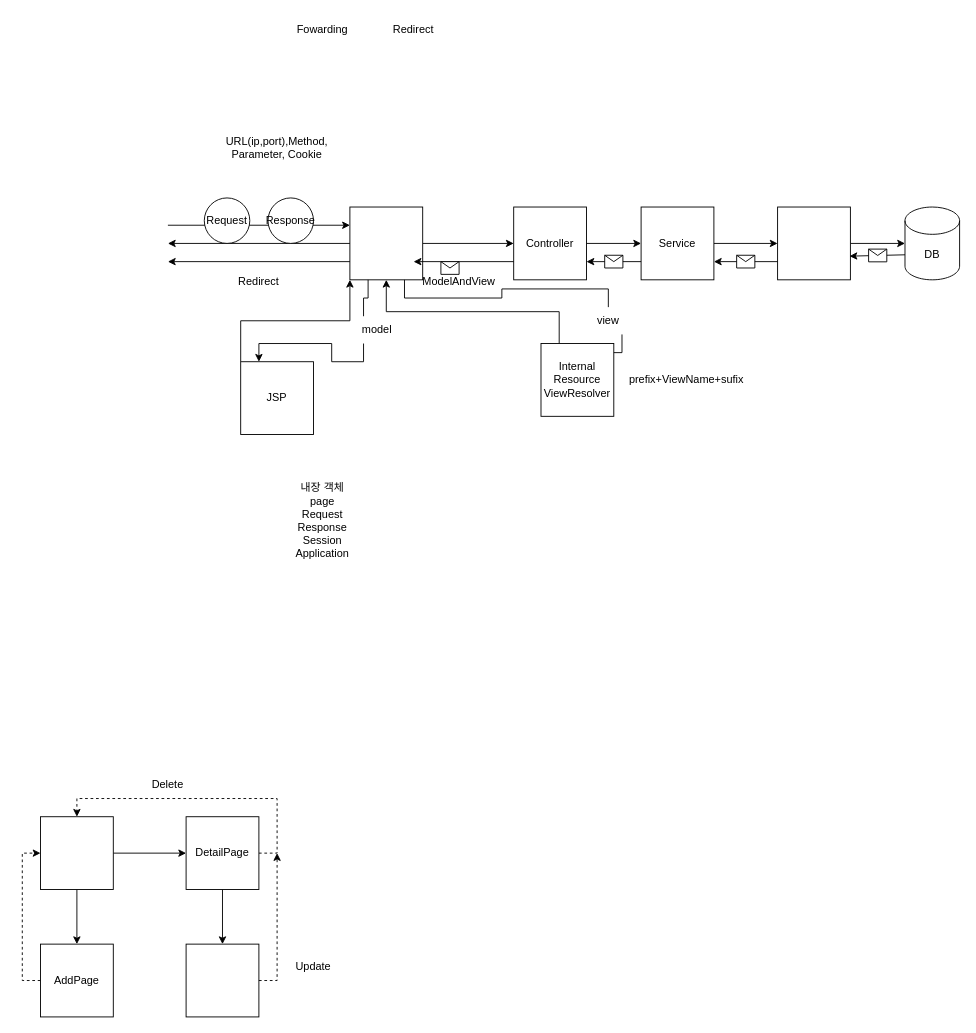
The diagram is 976 pixels wide and 1033 high, and some of its shapes have lost their labels. Each missing label, with the box of its shape:
DAO: (777, 206, 850, 280)
DS Dispatcher Servlet: (349, 206, 423, 280)
ListPage: (40, 816, 113, 890)
UpdatePage: (185, 943, 259, 1017)
